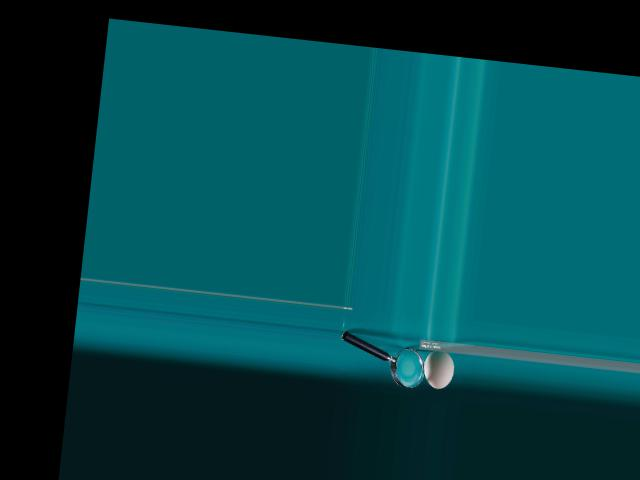egg: (422, 348, 456, 390)
